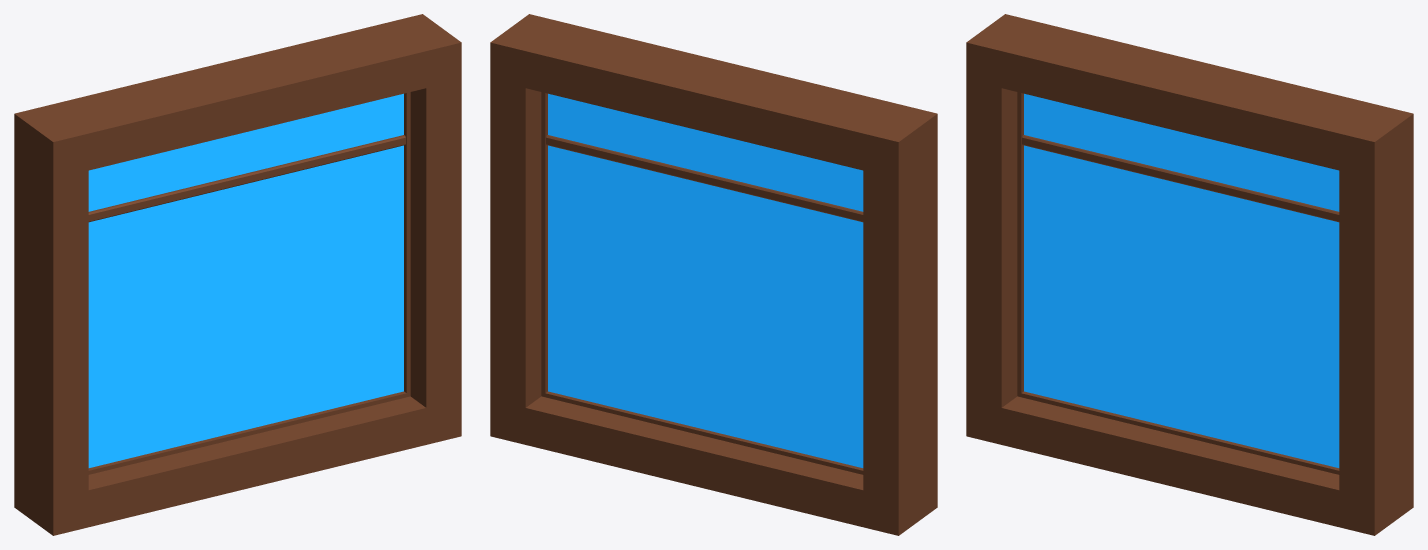
File: janela_quadrada_bandeira_madeira.glb
3 views of the same model, side by side, from view 1: azimuth 30°, elevation 25°; view 2: azimuth 150°, elevation 25°; view 3: azimuth 330°, elevation 25° (orthographic).
Parts seen in each view (by area): view 1: janela_quadrada_bandeira_madeira; view 2: janela_quadrada_bandeira_madeira; view 3: janela_quadrada_bandeira_madeira.
Part boxes in pixels (x1,y1,x2,y2): janela_quadrada_bandeira_madeira: [14, 14, 461, 535]; janela_quadrada_bandeira_madeira: [490, 14, 937, 535]; janela_quadrada_bandeira_madeira: [966, 14, 1413, 535].
Size of the model in its own units: 1.27 by 1.17 by 0.21.
